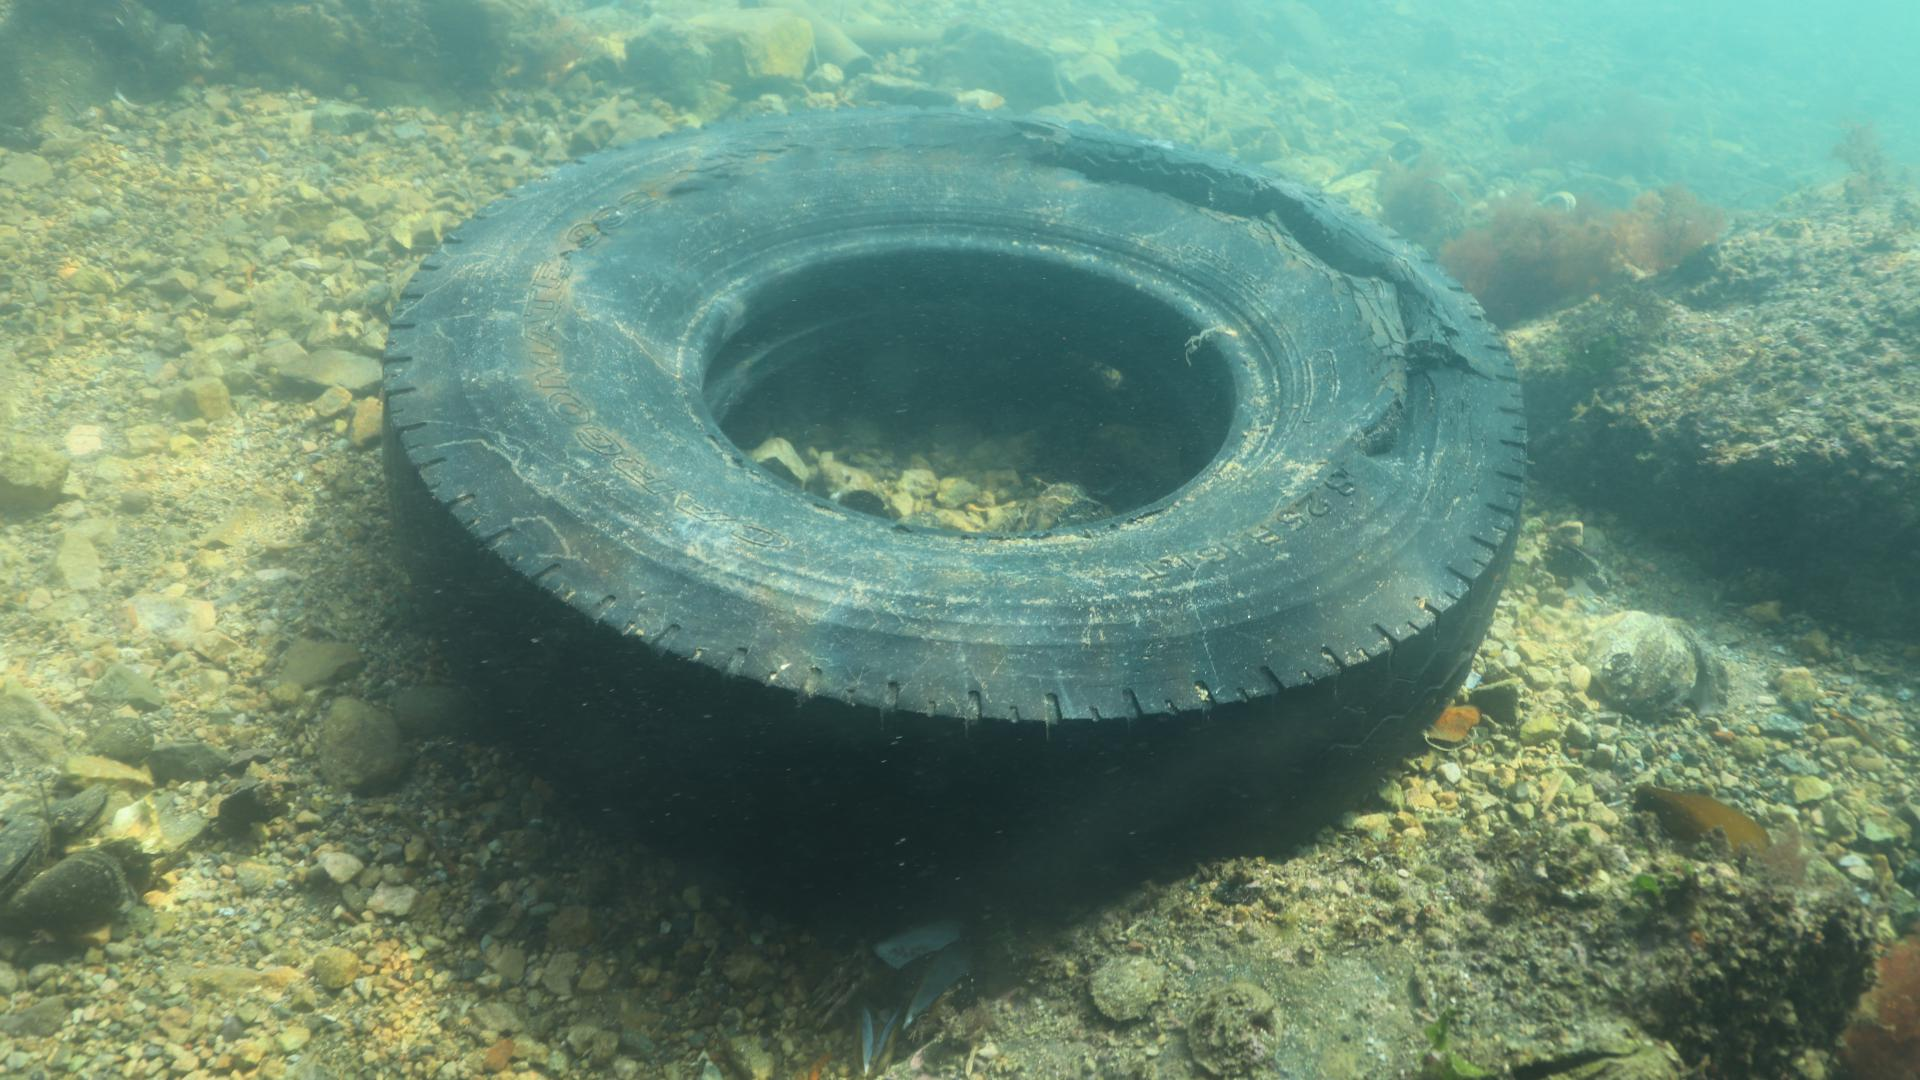tire: (384, 105, 1528, 922)
